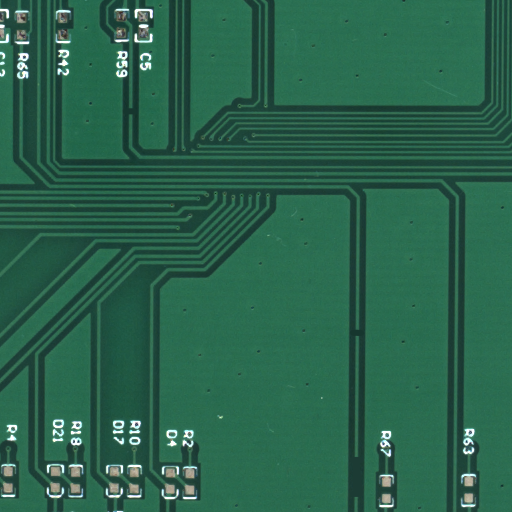Open_circuit: (356, 476, 367, 512), (130, 110, 143, 125), (356, 331, 368, 344)
